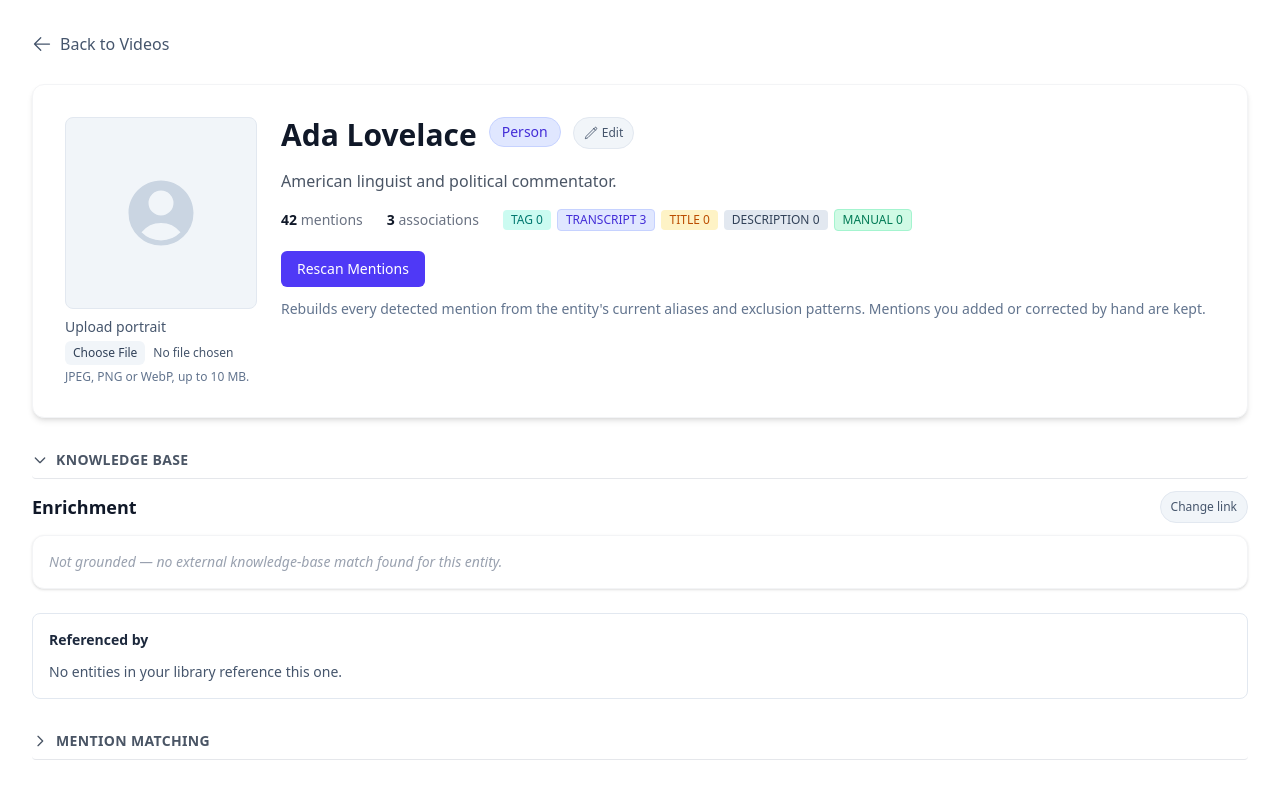
Test: EntityDetailPage › Rescan Mentions button › success message 'No mentions found for this entity.' appears when scan returns zero results
What coordinates should you click on to do the following:
click the button "Rescan Mentions"
I would click on:
 (353, 269)
Its box is [281,251,425,287].
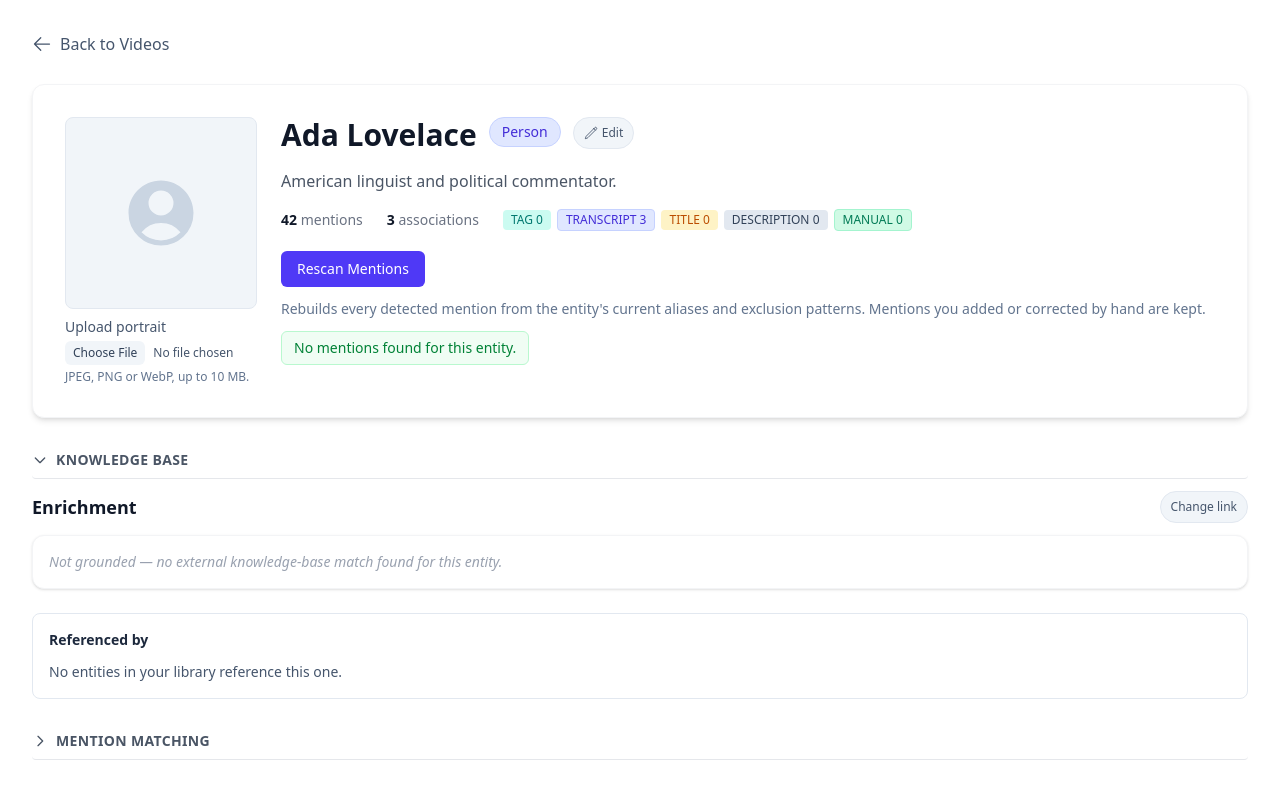
Check: the text "No mentions found for this entity." is shown, box [281,331,529,365]
